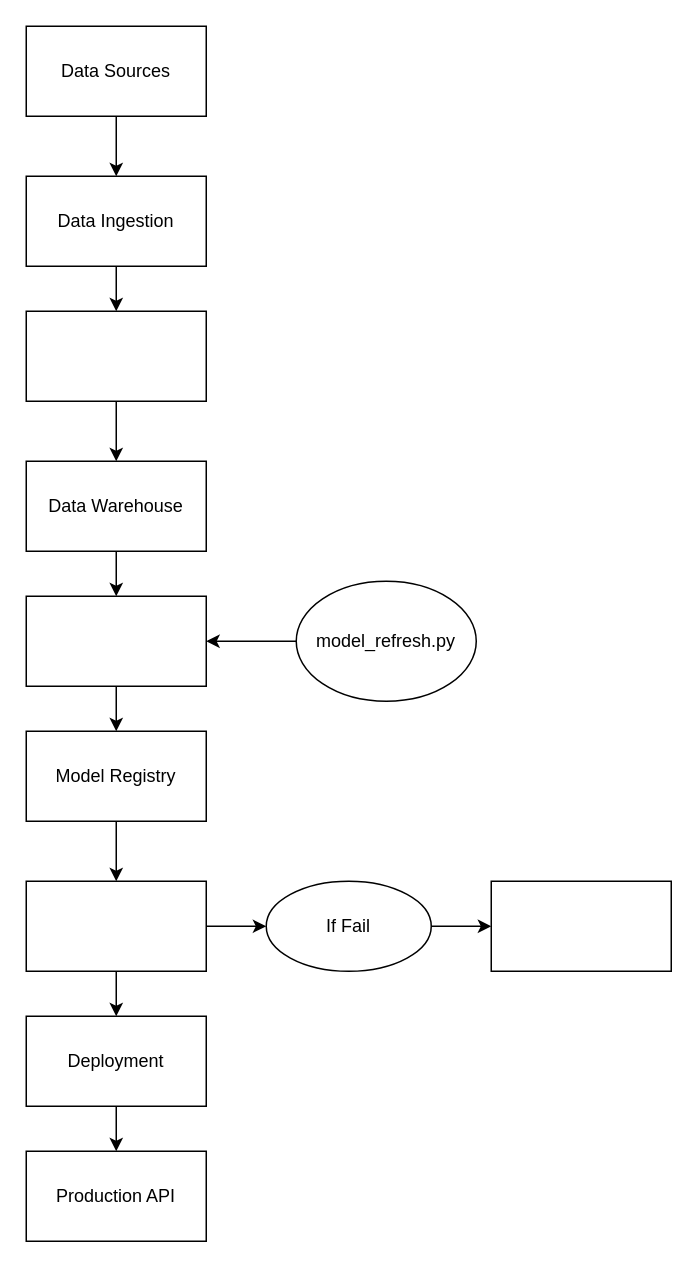
Image size: 698x1268. Some labels were removed from this diagram. Each missing label, with the centre of its shape:
"Monitoring" belongs at (x=115, y=925).
"RollBack" belongs at (x=580, y=925).
"Training" belongs at (x=115, y=640).
"Validation" belongs at (x=115, y=355).
